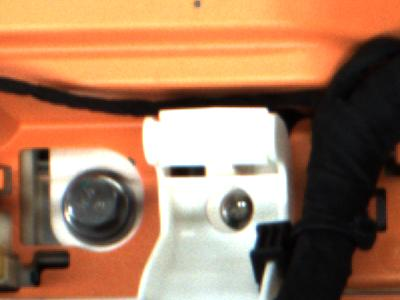nut_b: (62, 164, 137, 245)
